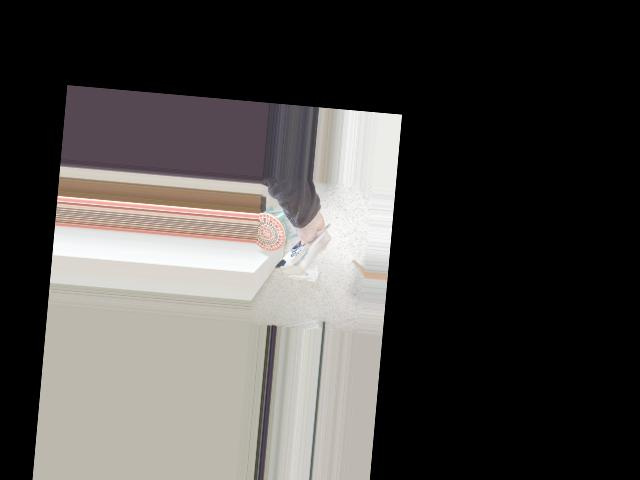cheese: (265, 208, 339, 288)
